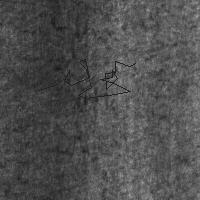crazing: (46, 9, 116, 123), (38, 59, 135, 98)
